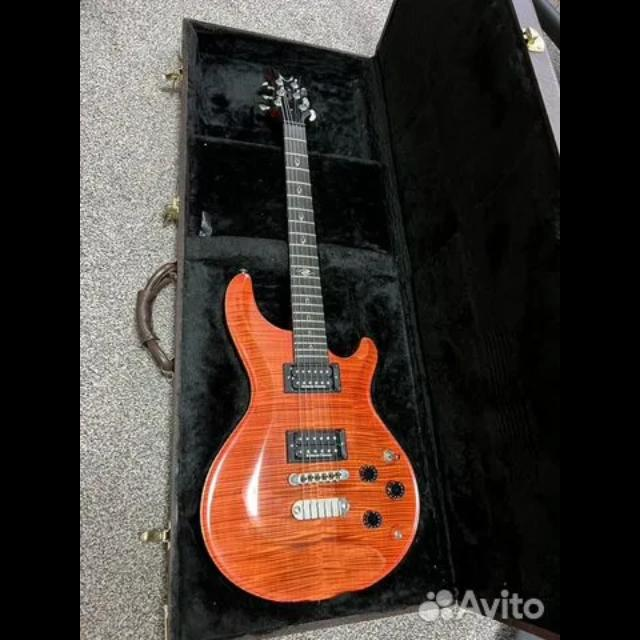Electric-Guitar: (199, 72, 419, 602)
